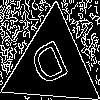D: (27, 39, 75, 96)
